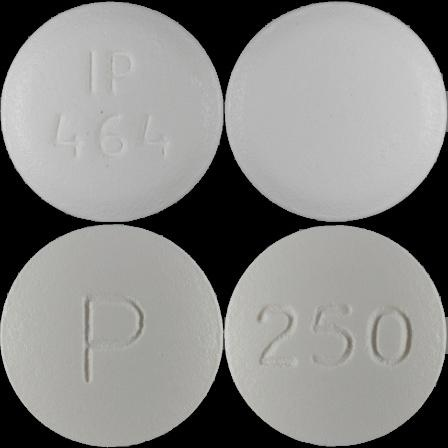67296-0618: (0, 0, 224, 224)
